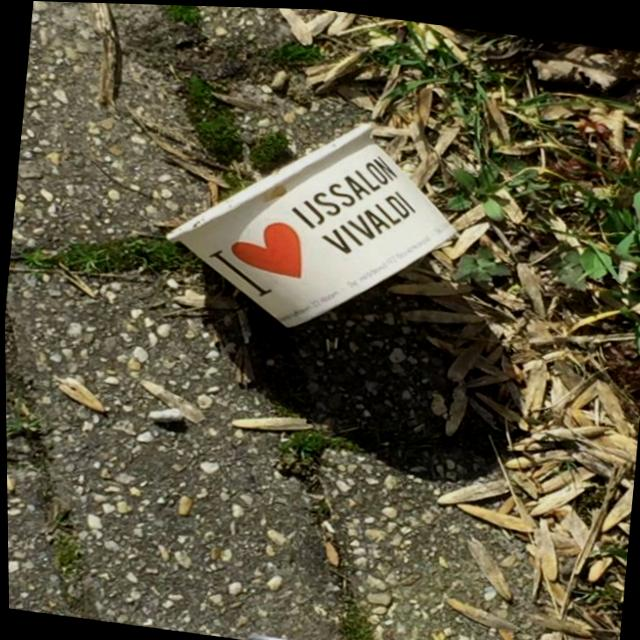Paper: (150, 89, 468, 349)
